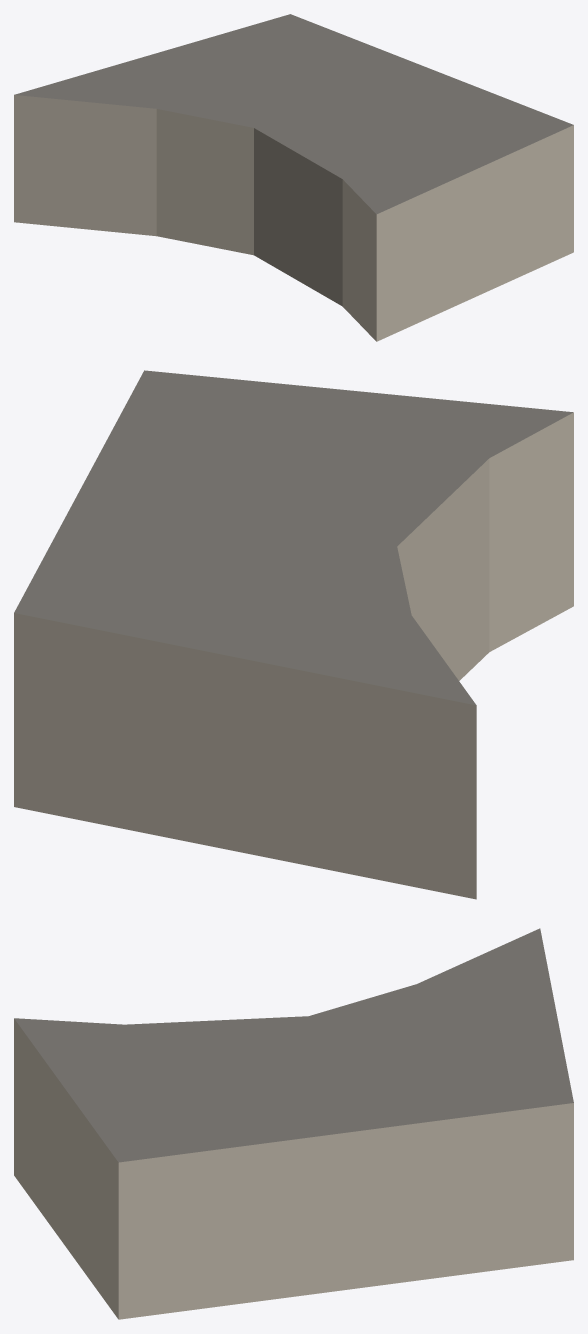
The picture shows the model from 3 angles, top to bottom: view 1: azimuth 30°, elevation 25°; view 2: azimuth 150°, elevation 25°; view 3: azimuth 270°, elevation 25°; orthographic projection. The views are drawn at different scales.
Visible parts, largest first — view 1: HP-w1512914116; view 2: HP-w1512914116; view 3: HP-w1512914116.
Boxes of the visible parts, x1,y1,x2,y2 form: HP-w1512914116: [14, 14, 573, 341]; HP-w1512914116: [14, 370, 573, 899]; HP-w1512914116: [14, 928, 573, 1319].
Bounding box in the file's own units: 57.53 × 18 × 58.11.
